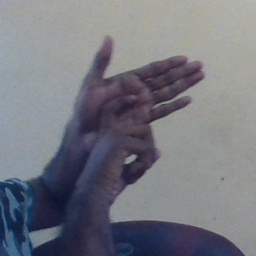R: (69, 34, 209, 185)
